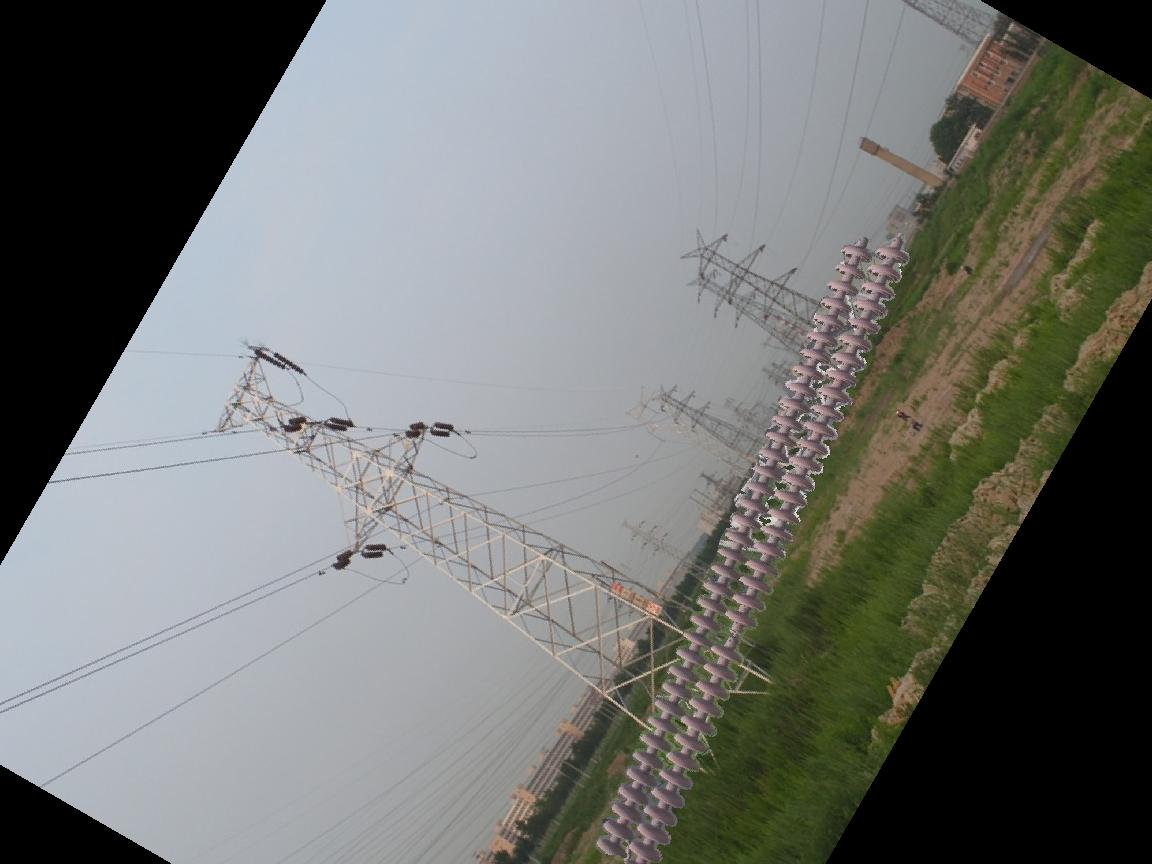insulator: (589, 233, 916, 864)
insulator_stringdrop: (706, 604, 763, 671)
